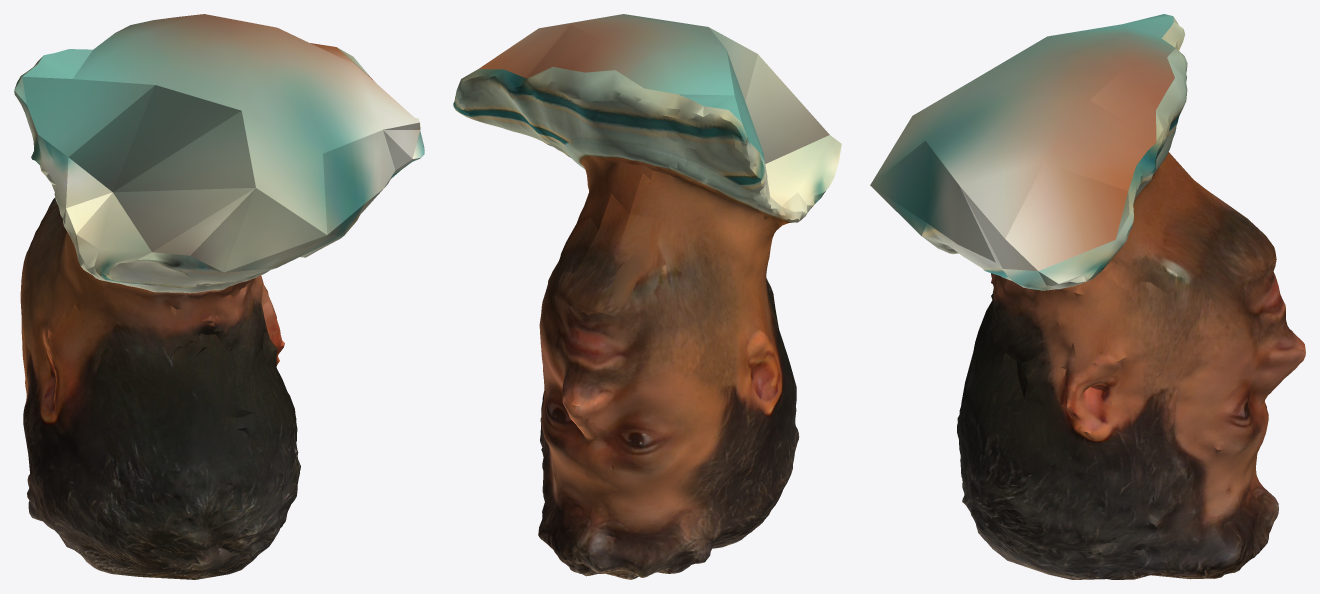
The model's file is shamit.FBX.
3 renders of one model, left to right at view 1: azimuth 30°, elevation 25°; view 2: azimuth 150°, elevation 25°; view 3: azimuth 270°, elevation 25°, orthographic. The views are drawn at different scales.
Visible parts, largest first — view 1: mesh; view 2: mesh; view 3: mesh.
Boxes of the visible parts, x1,y1,x2,y2 form: mesh: (14, 14, 424, 579); mesh: (453, 14, 841, 579); mesh: (870, 14, 1305, 579).
Size of the model in its own units: 0.0107 by 0.015 by 0.0112.
1 material, 1 textured.
